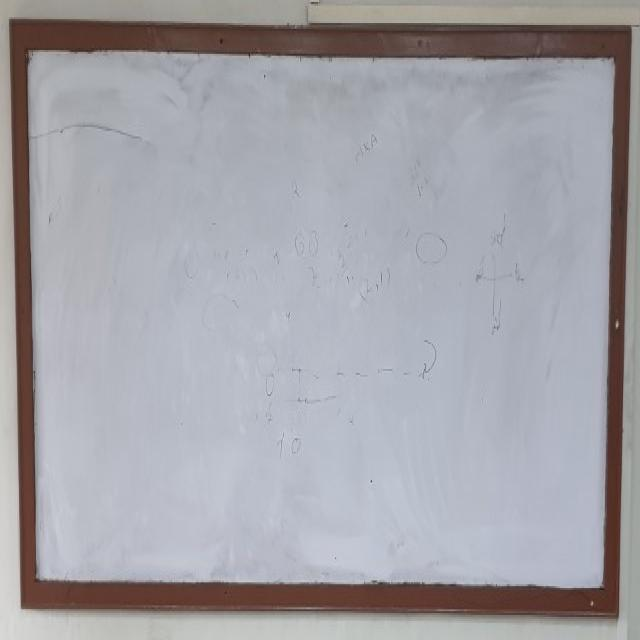White-board: (24, 35, 623, 598)
